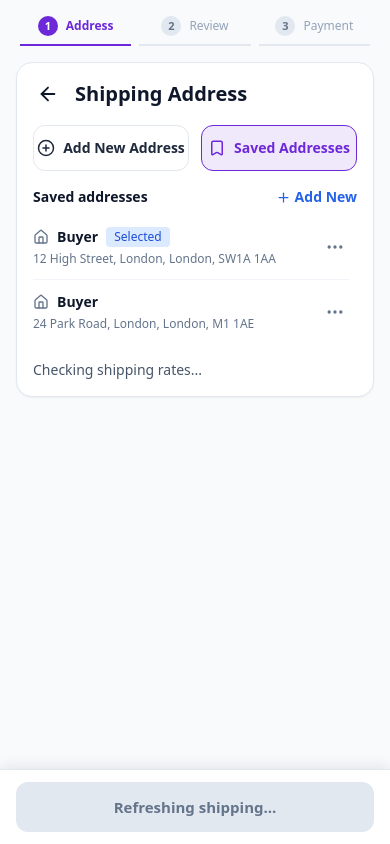
it: checkout shipping addresses › keeps another selected saved address when the new address form is opened and closed
The image size is (390, 844).
Click the radio button labelled "Buyer 24 Park Road, London, London, M1 1AE". click: (173, 312)
box: [33,292,313,332]
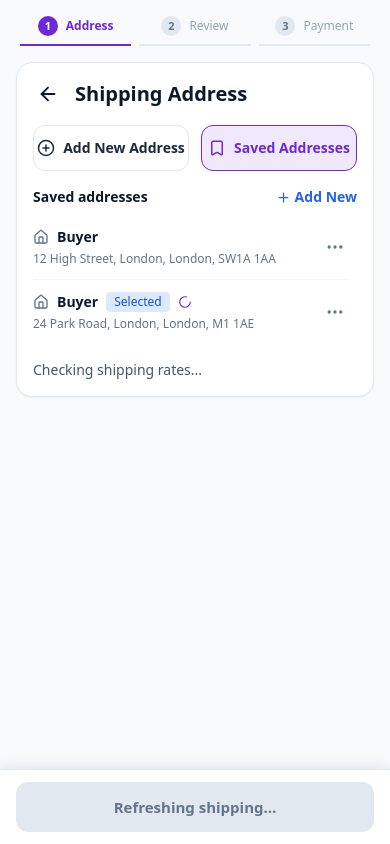
Click the button "Add New". click: (316, 197)
box: [276,187,357,207]
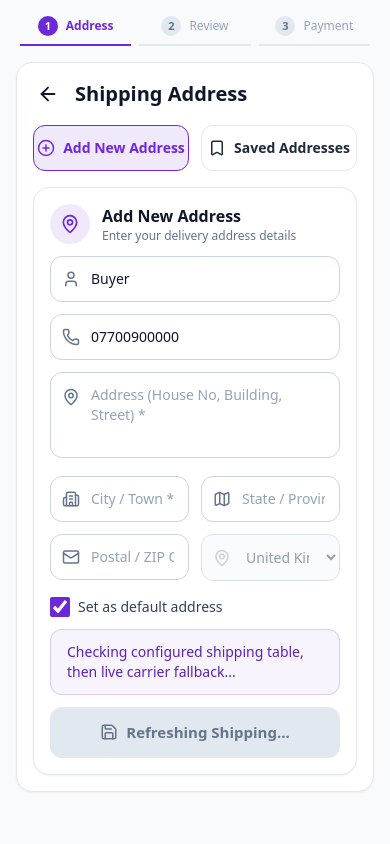
Click the tab "Saved Addresses". click: (279, 148)
box: [201,125,357,171]
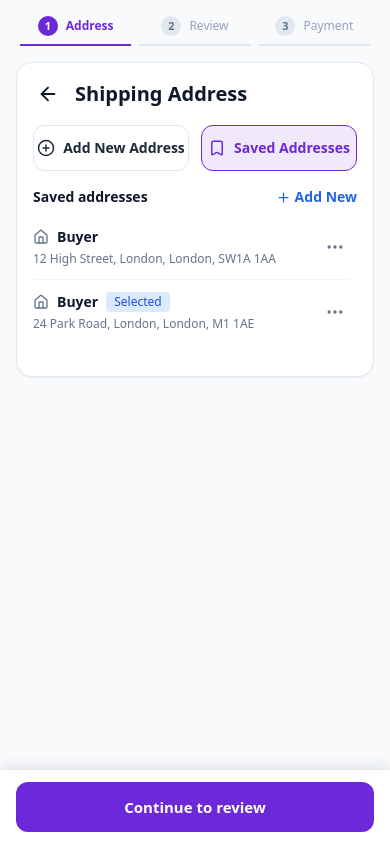
Check: the radio button labelled "Buyer Selected 24 Park Road, London, London, M1 1AE" is checked, box [33,292,313,332]
